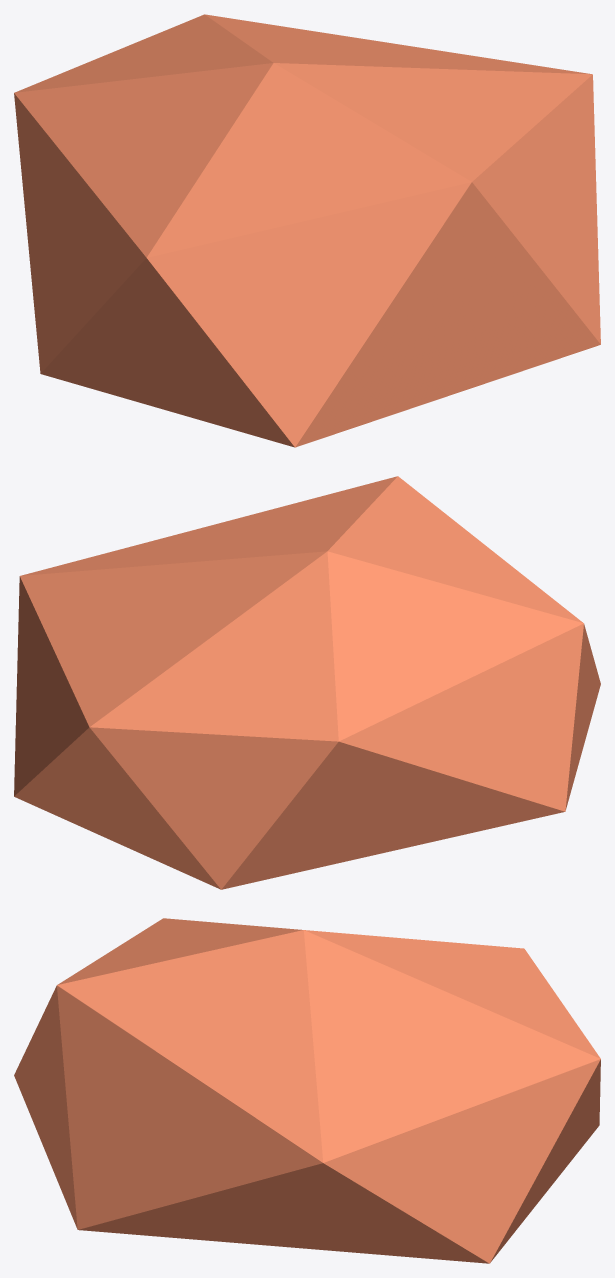
Rendered from Pebble2.fbx.
3 renders of one model, top to bottom at view 1: azimuth 30°, elevation 25°; view 2: azimuth 150°, elevation 25°; view 3: azimuth 270°, elevation 25°, orthographic. The views are drawn at different scales.
Parts seen in each view (by area): view 1: Pebble2; view 2: Pebble2; view 3: Pebble2.
Part boxes in pixels (left/top/right/bottom): Pebble2: left=14, top=14, right=600, bottom=447; Pebble2: left=14, top=476, right=600, bottom=889; Pebble2: left=14, top=918, right=600, bottom=1263.
Size of the model in its own units: 52.74 by 30.16 by 51.88.
